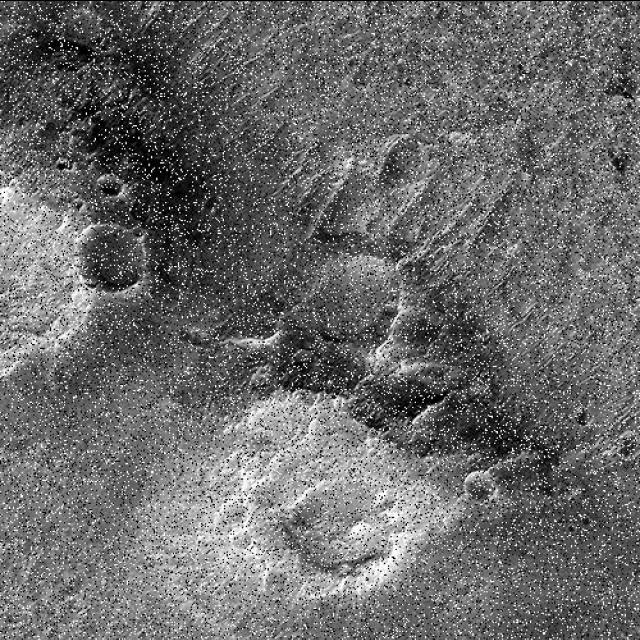crater: (273, 247, 421, 384), (272, 453, 408, 589), (526, 567, 640, 640), (69, 210, 159, 296), (319, 596, 413, 640), (460, 464, 504, 506)
